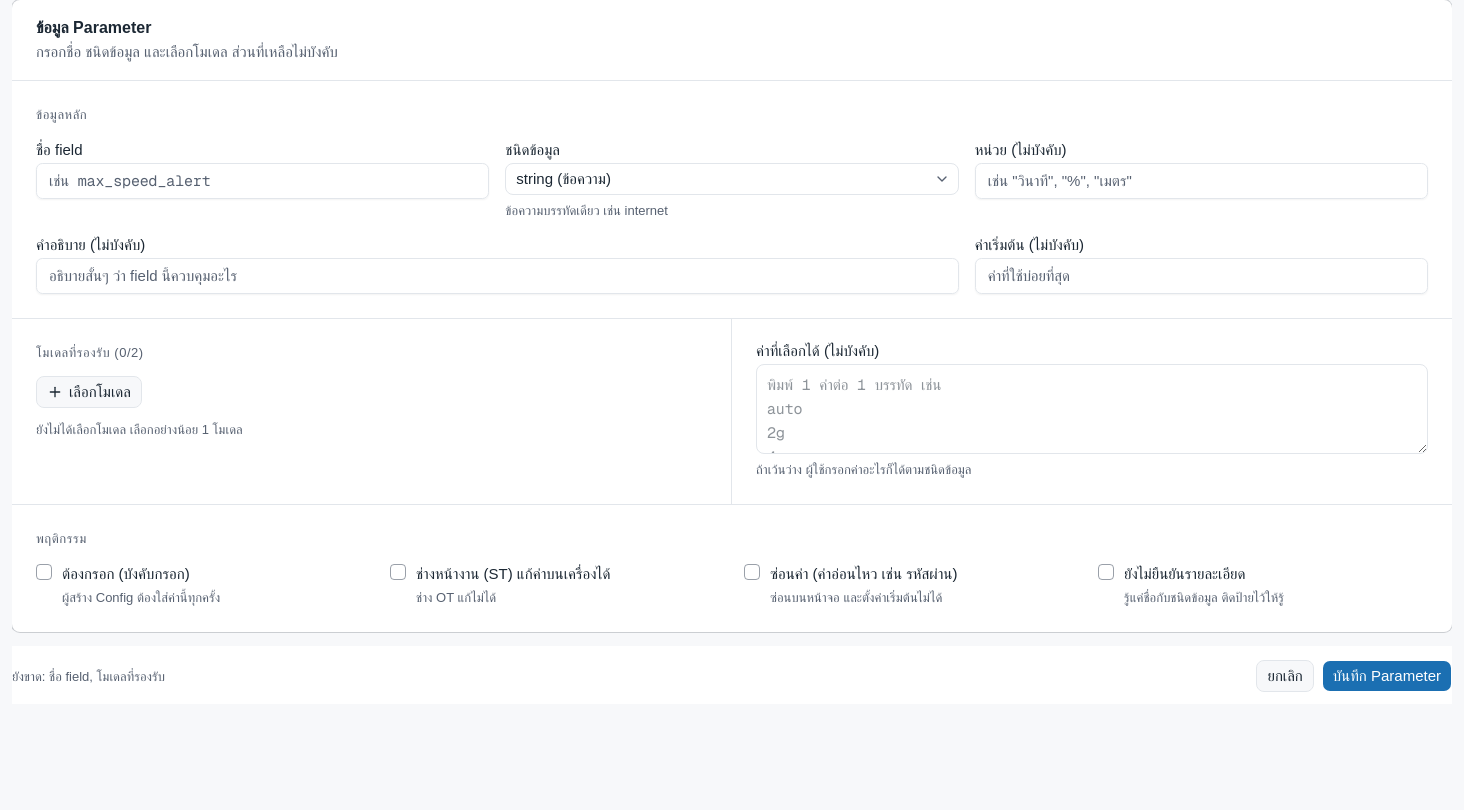
Test: ParameterCreateForm data type hint › shows an example for the selected data type
Expected: the text "ข้อความบรรทัดเดียว เช่น internet" is shown, left=505, top=203, right=668, bottom=218
What coordinates should you click on to do the following:
click the dropdown named "ชนิดข้อมูล"
I would click on:
 (564, 178)
Its box is left=505, top=163, right=959, bottom=195.
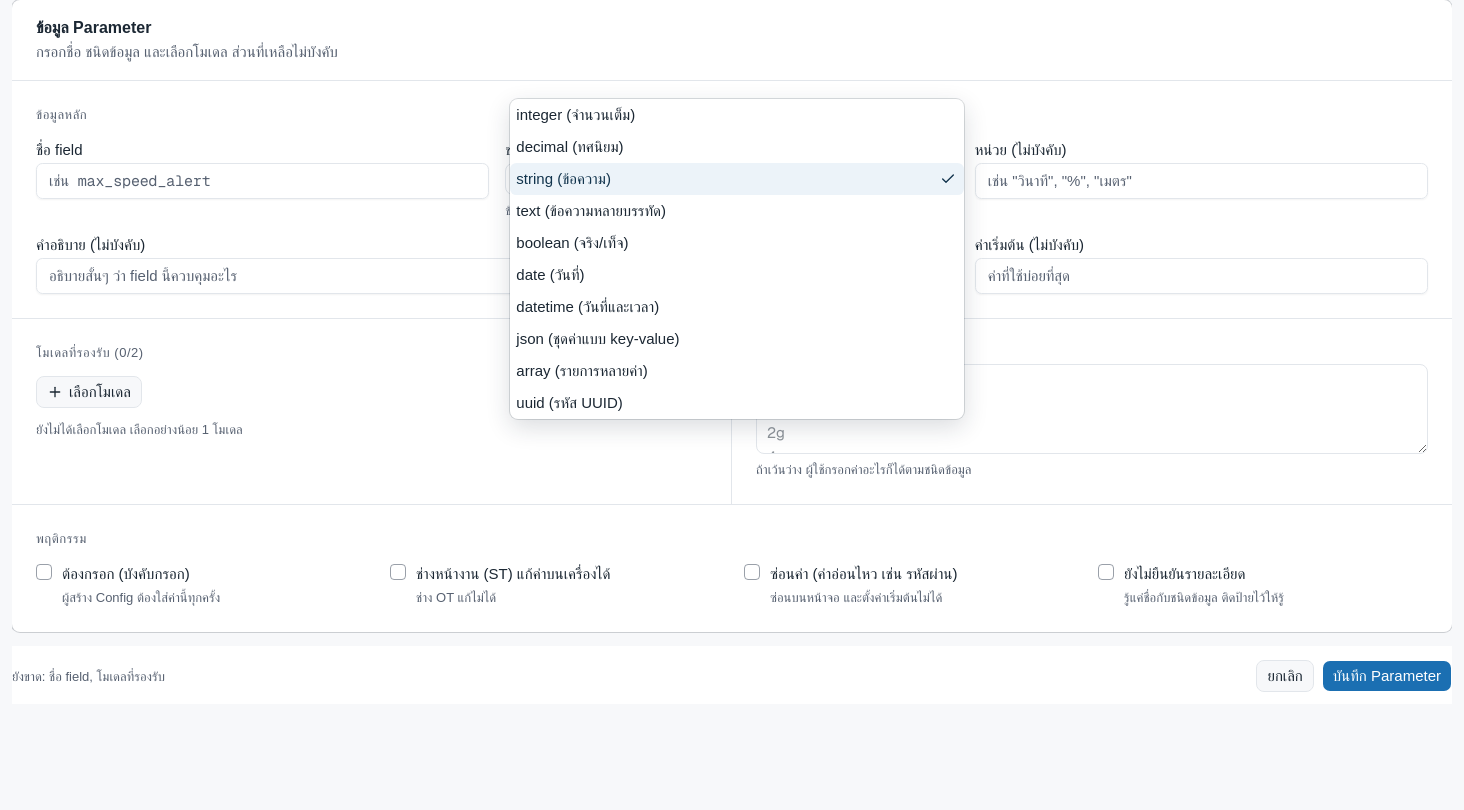
What coordinates should you click on to do the following:
click the option "boolean (จริง/เท็จ)"
I would click on:
 (572, 242)
Its box is left=516, top=234, right=628, bottom=251.
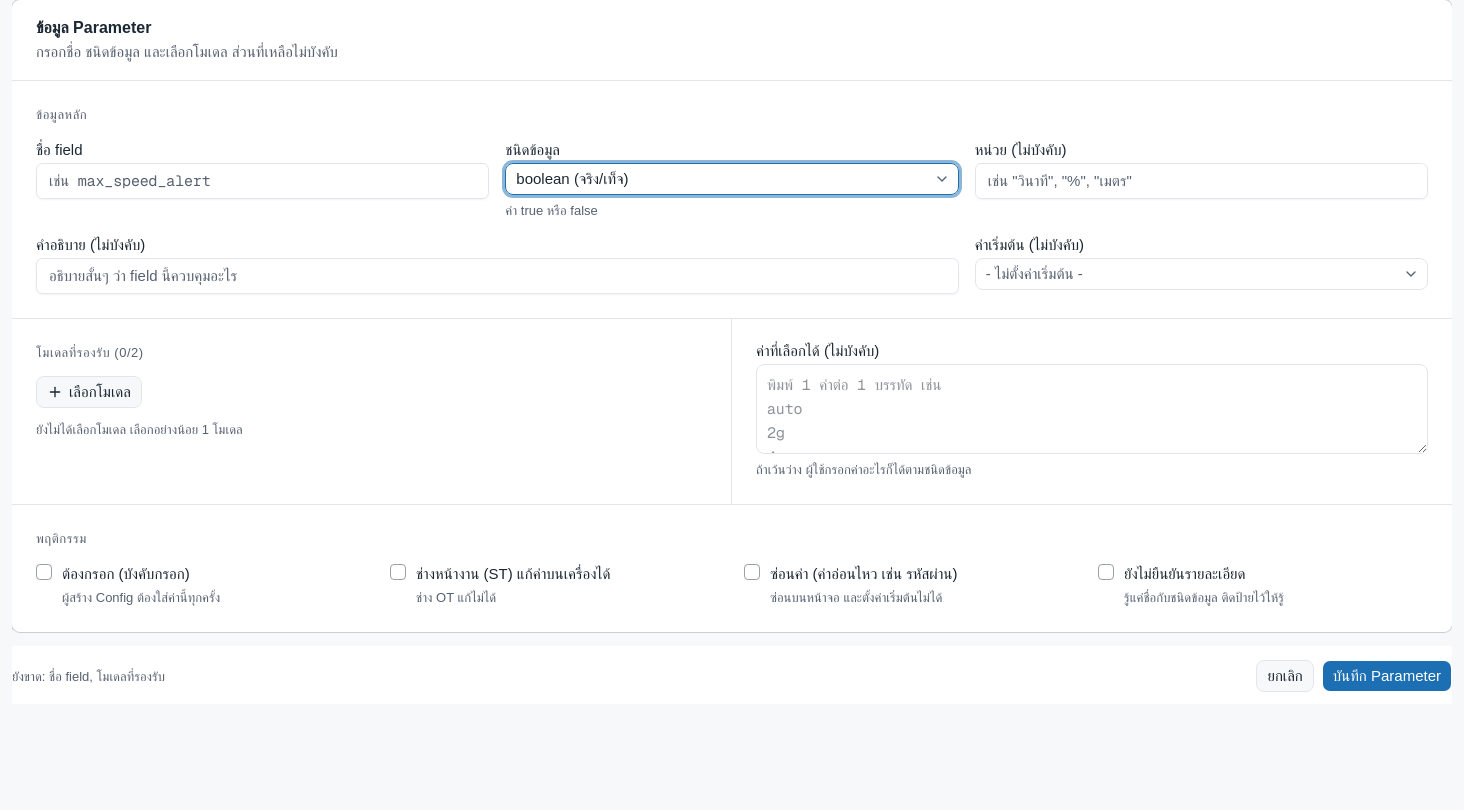
Now the text "ค่า true หรือ false" is shown, box left=505, top=203, right=598, bottom=218
